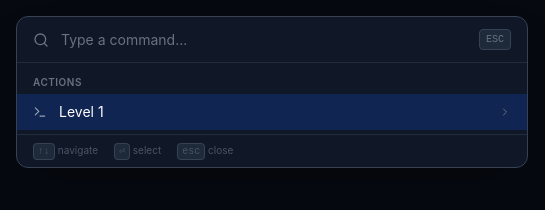
it: CommandPalette › breadcrumb click navigates to specific level
The image size is (545, 210).
Check: the text "Level 1" is shown, box top-left (59, 103), bottom-right (104, 120)
# Drill to level 1
Press Enter
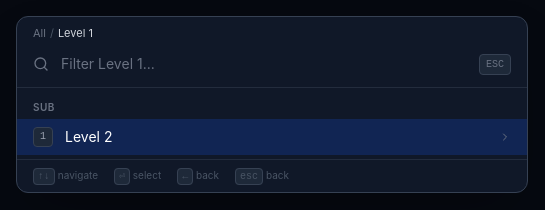
Check: the text "Level 2" is shown, box top-left (65, 128), bottom-right (112, 145)
# Drill to level 2
Press Enter
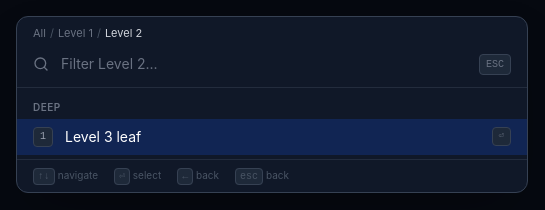
Check: the text "Level 3 leaf" is shown, box top-left (65, 128), bottom-right (141, 145)
# Click breadcrumb "All" to jump back to root
Click the button with test id "breadcrumb-root" at (39, 33), box top-left (33, 25), bottom-right (46, 42)
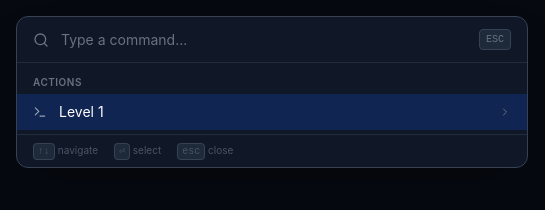
Check: the text "Level 1" is shown, box top-left (59, 103), bottom-right (104, 120)
Check: the button with test id "breadcrumb-root" is gone
